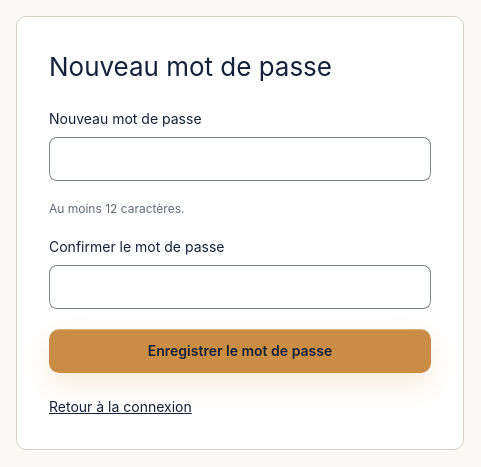
Test: password recovery › requires a fresh recovery link when the existing session returns reauthentication_needed
Type "new-password" into the password field labelled "Nouveau mot de passe".
click(240, 159); type("new-password")  # box x1=49 y1=137 x2=431 y2=181
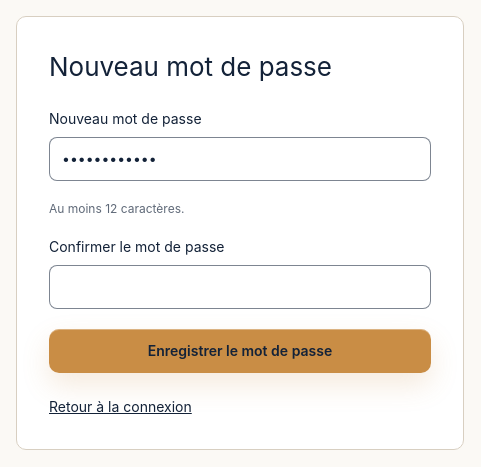
Type "new-password" into the password field labelled "Confirmer le mot de passe".
click(240, 287); type("new-password")  # box x1=49 y1=265 x2=431 y2=309
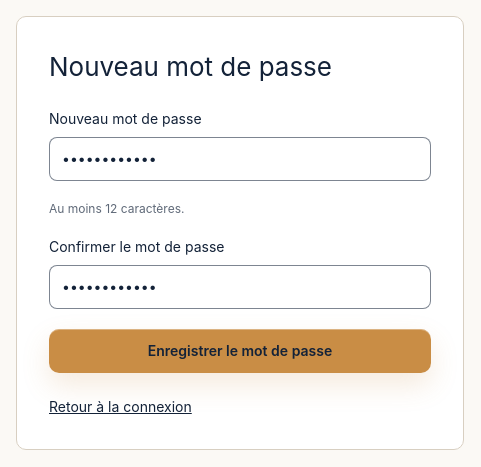
Click the button "Enregistrer le mot de passe".
click(240, 351)  # box x1=49 y1=329 x2=431 y2=373
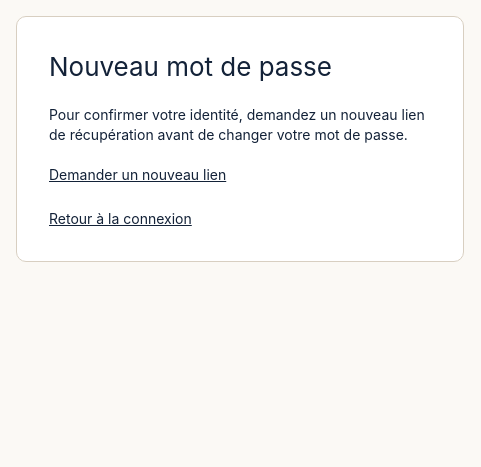
Expected: the button "Enregistrer le mot de passe" is gone
